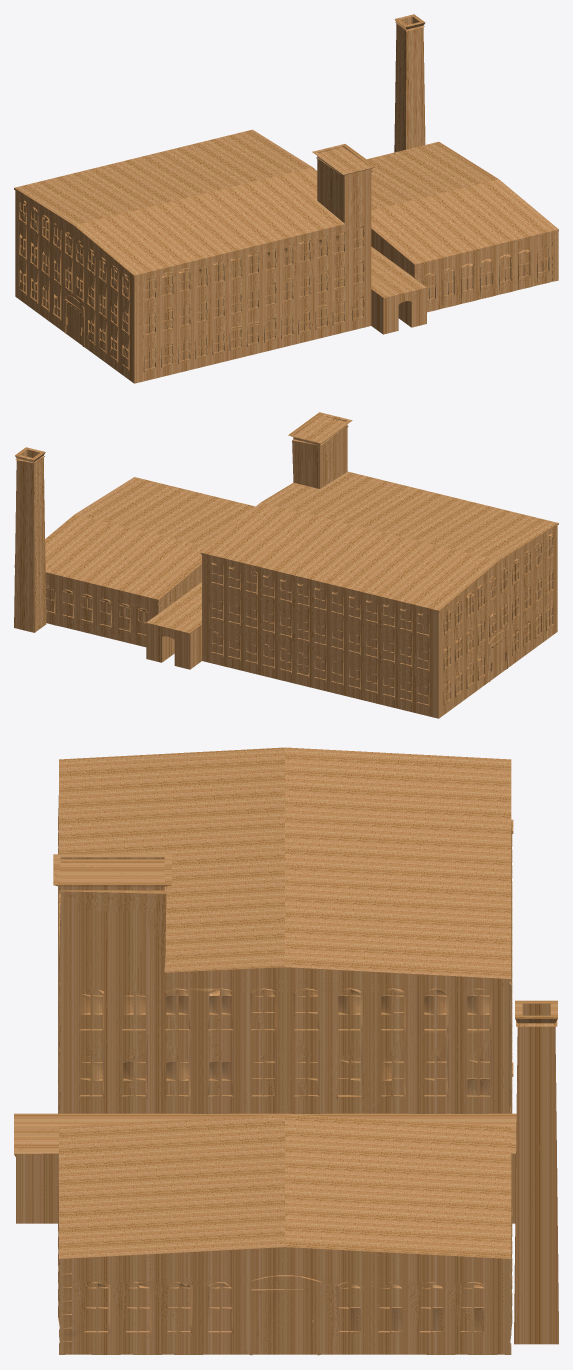
The model's file is Mill.FBX.
3 views of the same model, one above another, from view 1: azimuth 30°, elevation 25°; view 2: azimuth 150°, elevation 25°; view 3: azimuth 270°, elevation 25° (orthographic). The views are drawn at different scales.
Visible parts, largest first — view 1: Model; view 2: Model; view 3: Model.
Part boxes in pixels (left/top/right/bottom): Model: left=14, top=14, right=558, bottom=383; Model: left=14, top=412, right=558, bottom=718; Model: left=14, top=747, right=558, bottom=1355.
Bounding box in the file's own units: 248 × 96 × 146.
Materials: 1 (1 with a texture image).
